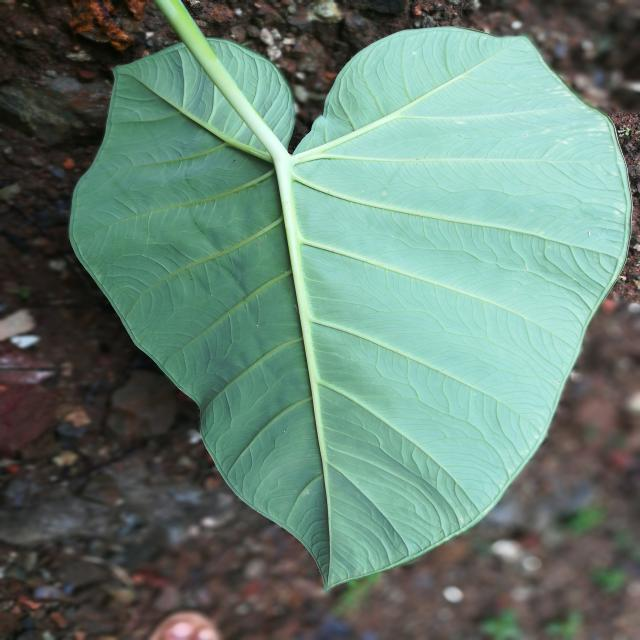taro: (72, 0, 630, 588)
